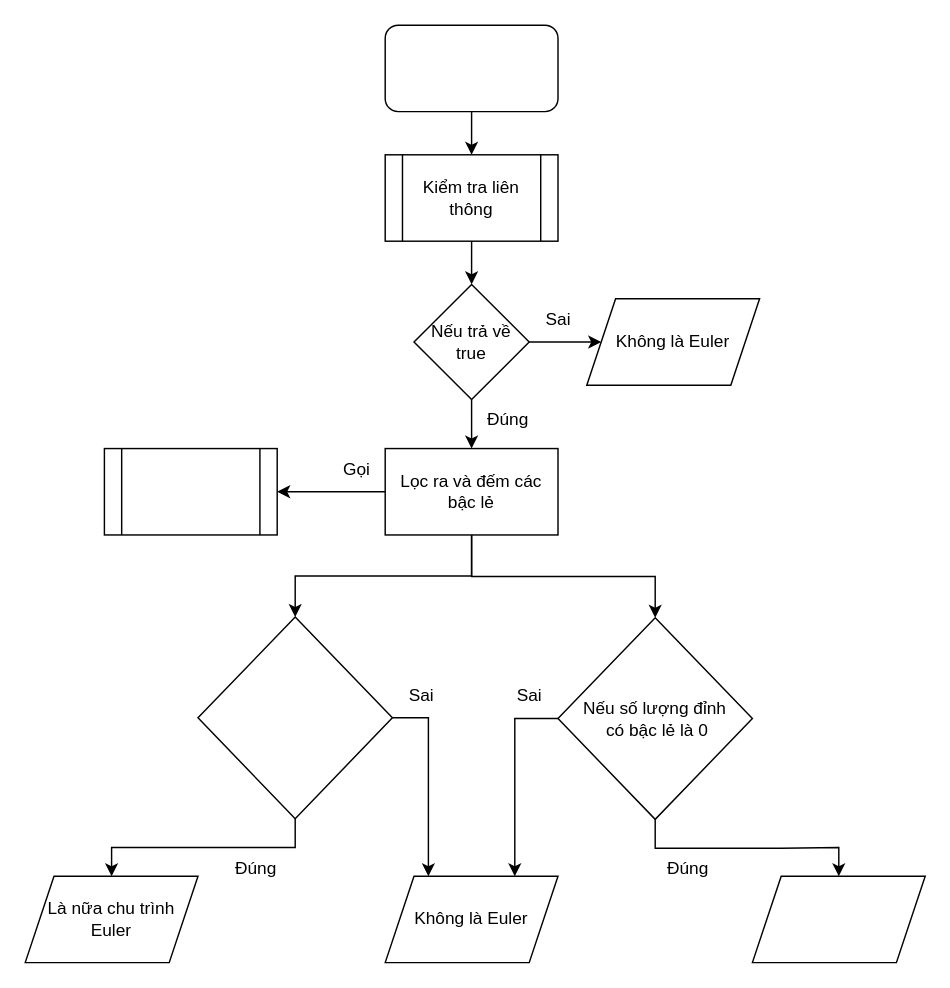
This 950x988 diagram has some shape labels left out. Each missing label, with the box of its shape:
Bắt đầu kiểm tra: (384, 24, 558, 112)
Là chu trình Euler: (751, 875, 925, 963)
Nếu số lượng đỉnh có bậc lẻ là 2: (197, 616, 392, 819)
Đếm cạnh: (103, 447, 277, 535)
